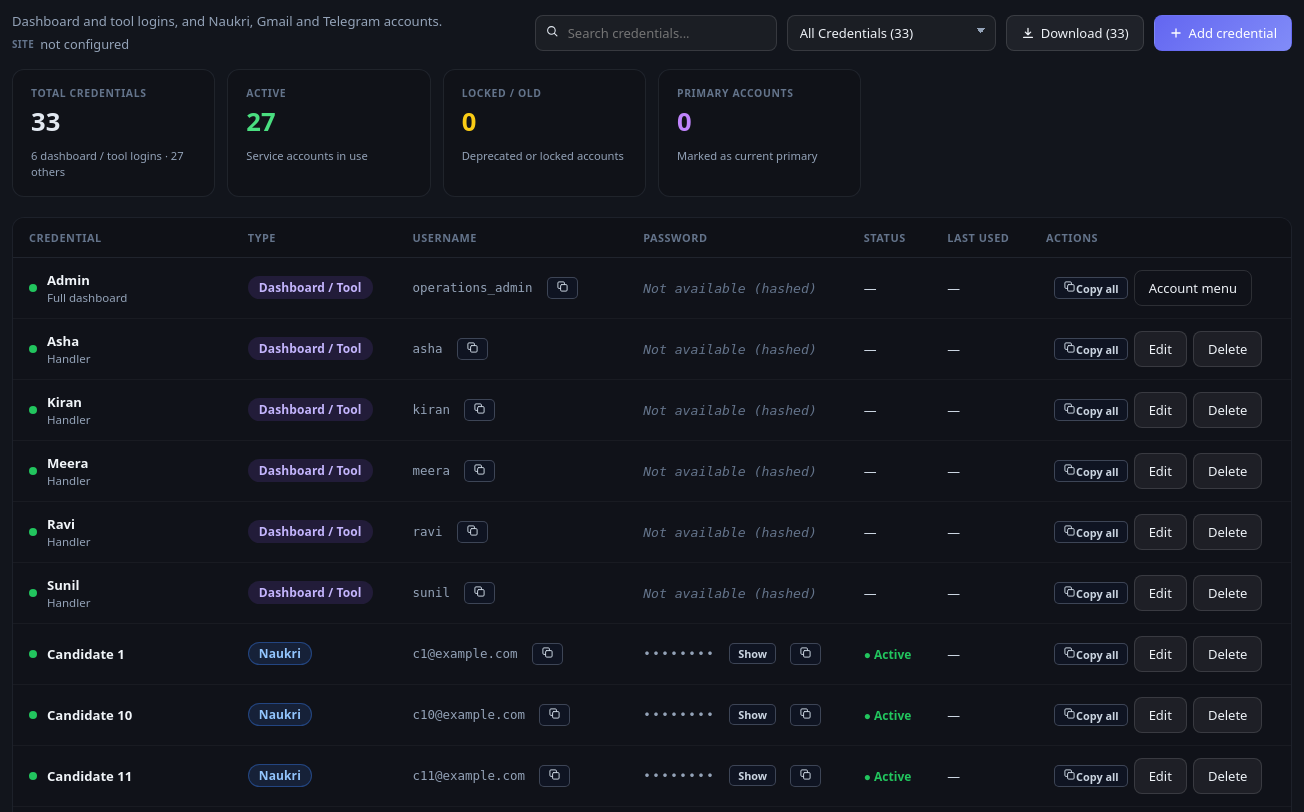
Test: the Download button › says how many it will download under login: Download (6)
The width and height of the screenshot is (1304, 812).
Step 1. Select "Dashboard / Tool Logins (6)" in the dropdown named "Credential type" → (891,32), box [787,14,996,50]
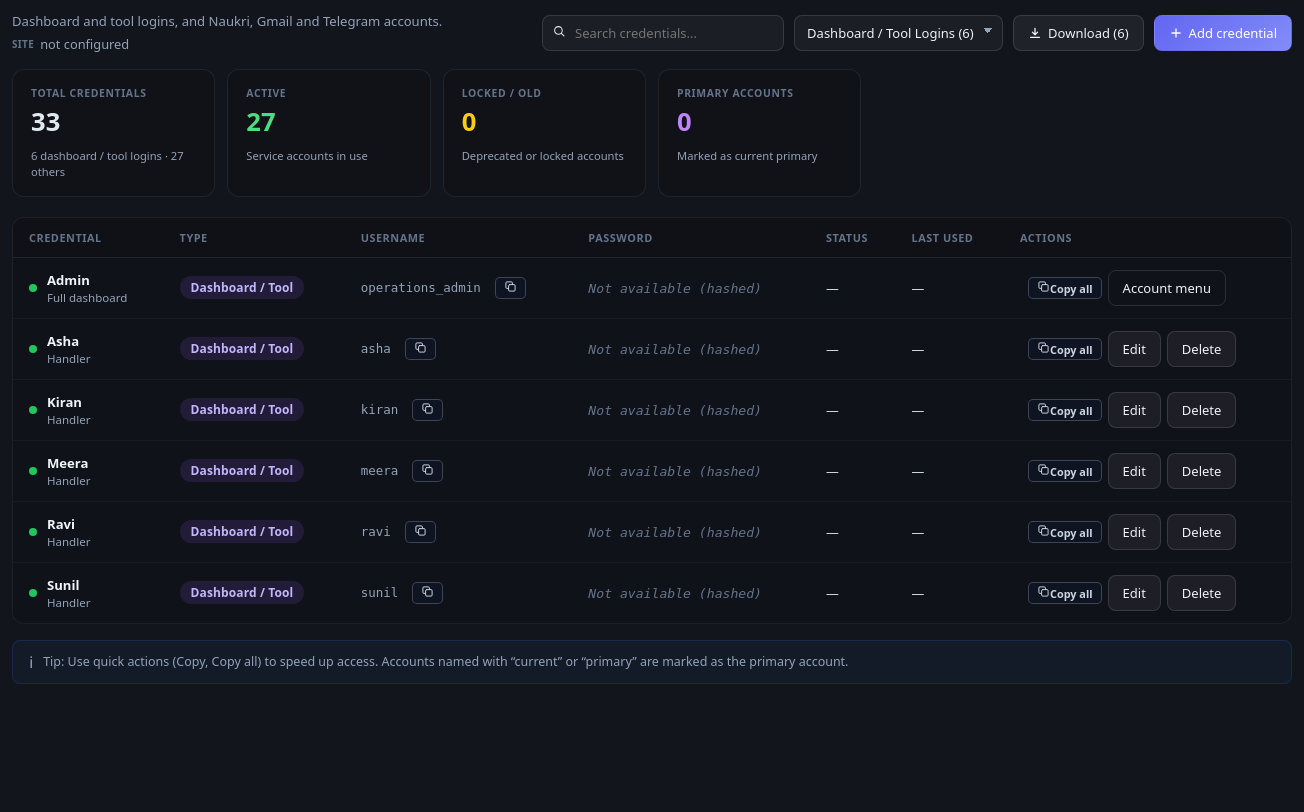
Expected: the button "Download (6)" is shown, [1013,14,1144,50]
